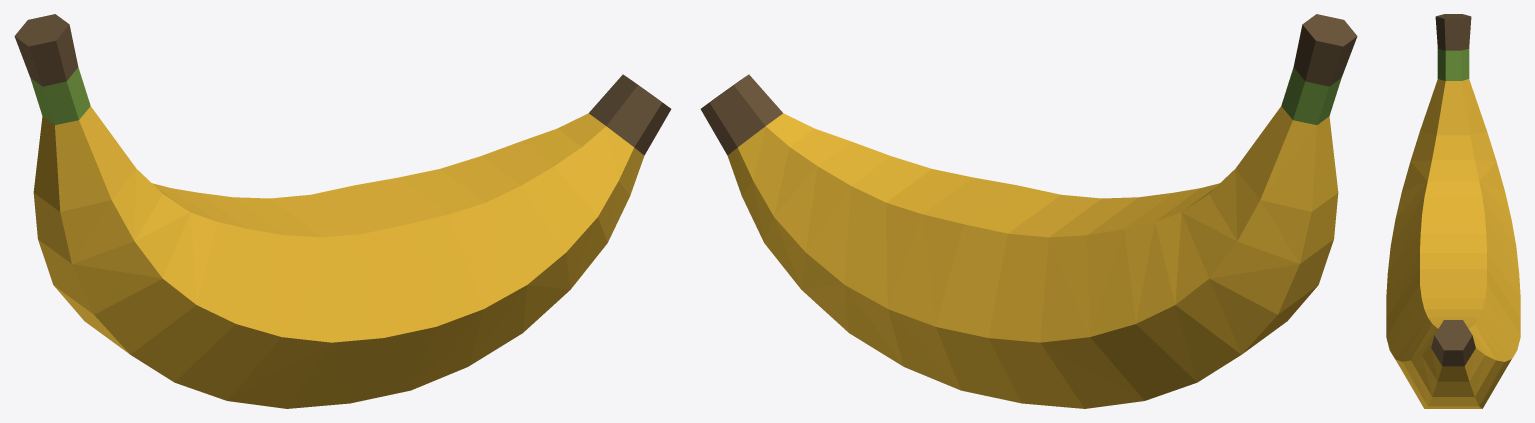
File: banana.glb
The picture shows the model from 3 angles, left to right: view 1: azimuth 30°, elevation 25°; view 2: azimuth 150°, elevation 25°; view 3: azimuth 270°, elevation 25°; orthographic projection. The views are drawn at different scales.
Parts seen in each view (by area): view 1: Continuous curved six-rib banana; view 2: Continuous curved six-rib banana; view 3: Continuous curved six-rib banana.
Part boxes in pixels (bbox=[...]): Continuous curved six-rib banana: bbox=[14, 14, 671, 408]; Continuous curved six-rib banana: bbox=[700, 14, 1357, 408]; Continuous curved six-rib banana: bbox=[1386, 14, 1520, 408].
Bounding box in the file's own units: 0.2 × 0.128 × 0.0574.
